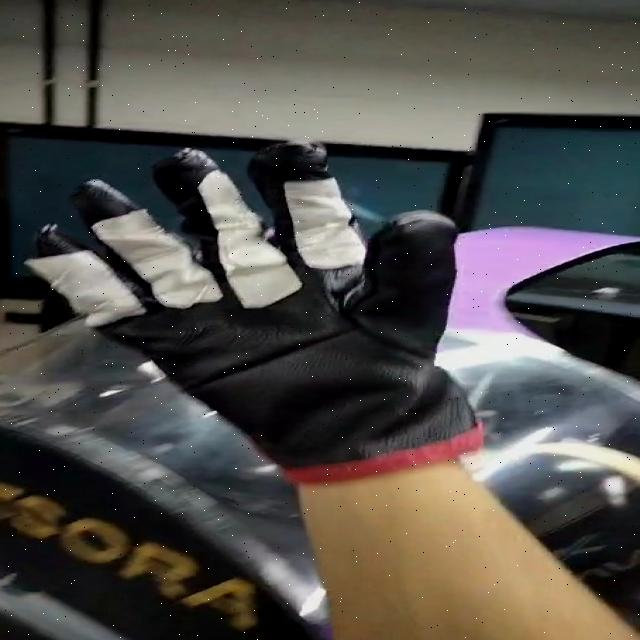Gloves: (20, 138, 541, 478)
